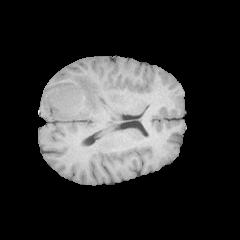glioma: (43, 75, 107, 120)
